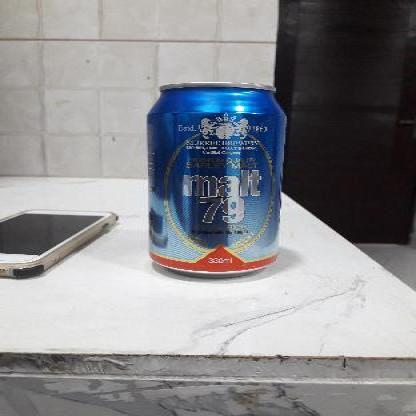alumunium_can: (148, 81, 284, 280)
